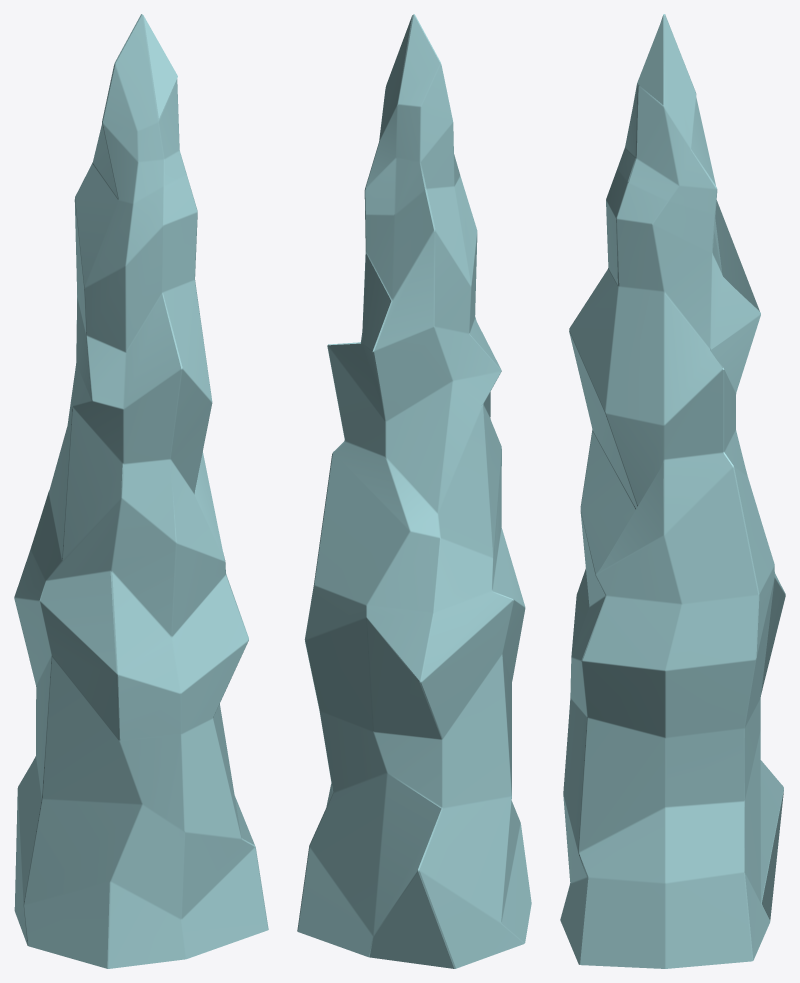
Rendered from IceTree_Trunk.fbx.
3 renders of one model, left to right at view 1: azimuth 30°, elevation 25°; view 2: azimuth 150°, elevation 25°; view 3: azimuth 270°, elevation 25°, orthographic.
Visible parts, largest first — view 1: Trunk; view 2: Trunk; view 3: Trunk.
Part boxes in pixels (bbox=[...]): Trunk: bbox=[14, 14, 268, 968]; Trunk: bbox=[297, 14, 531, 968]; Trunk: bbox=[560, 14, 785, 968].
Bounding box in the file's own units: 48.63 × 200 × 44.82.
